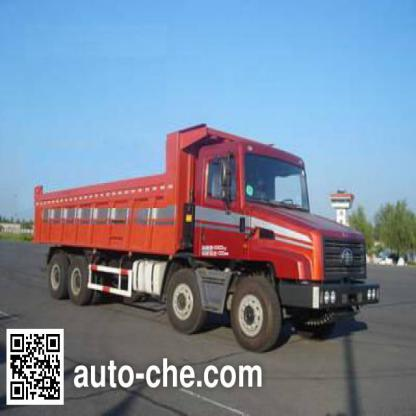normal-truck: (27, 131, 387, 316)
